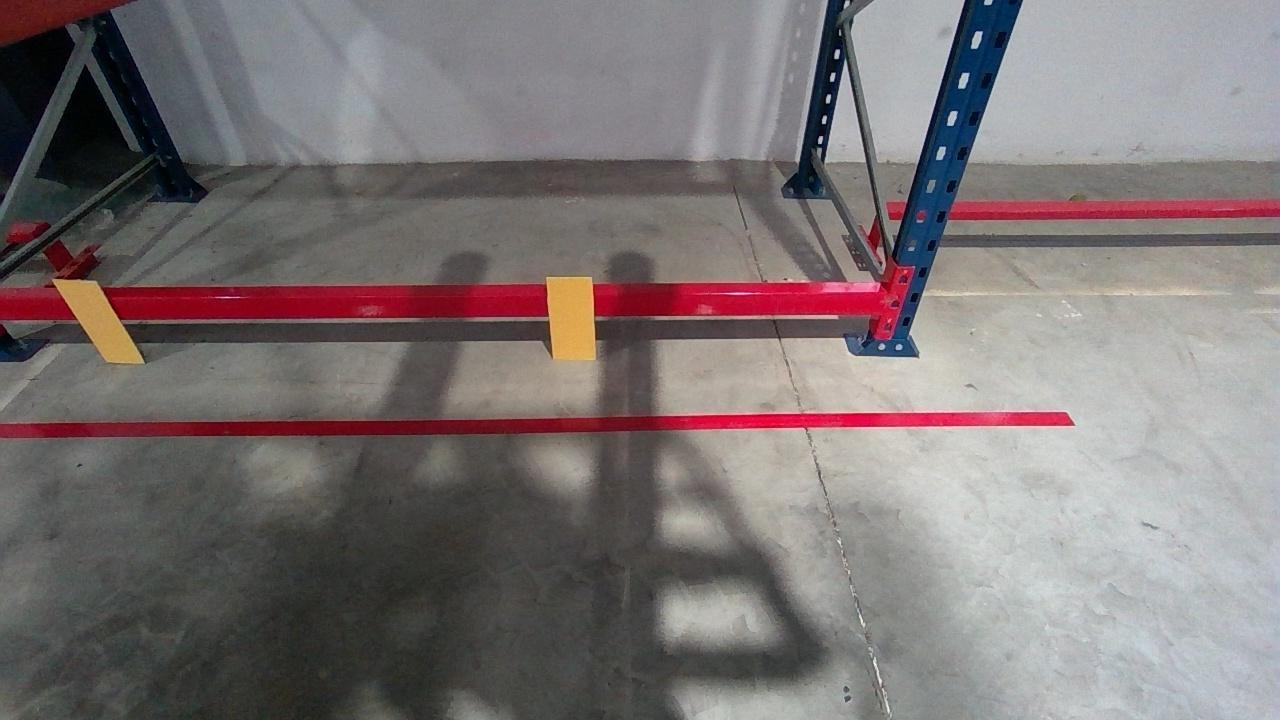h_rack: (1, 288, 883, 321)
orange_strip: (48, 280, 148, 362), (543, 276, 597, 360)
red_line: (4, 409, 1079, 436)
